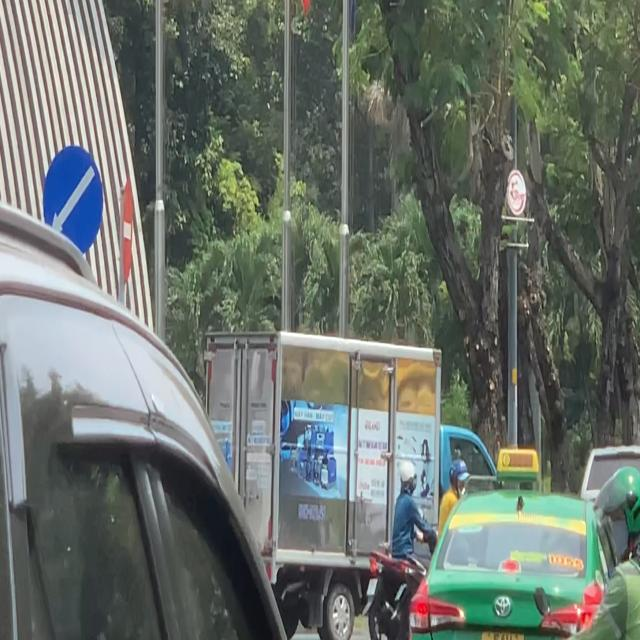Hieu lenh: (43, 145, 103, 259)
